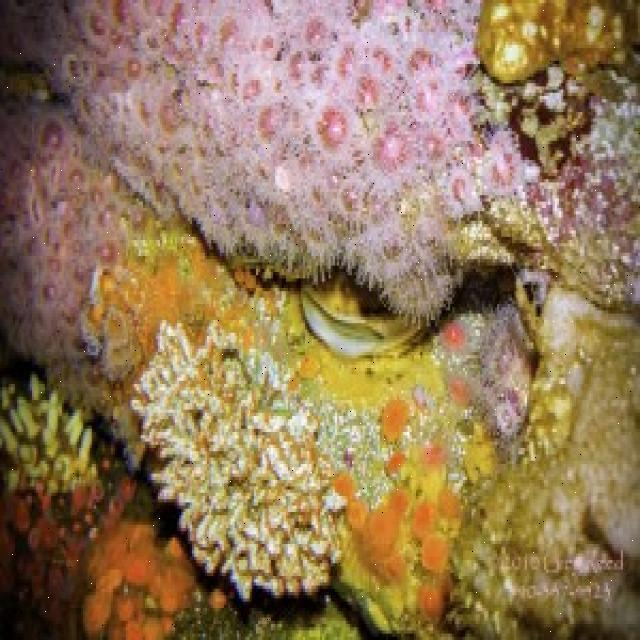Bleached: (532, 287, 640, 640), (152, 340, 325, 559), (6, 388, 91, 482)
Healthy: (10, 511, 177, 640)
